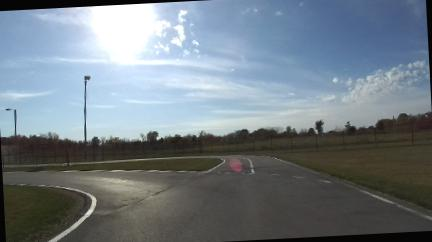Grass: (68, 130, 431, 162), (272, 146, 431, 210), (3, 185, 83, 241), (2, 158, 221, 171)
Lane: (2, 156, 431, 241)
